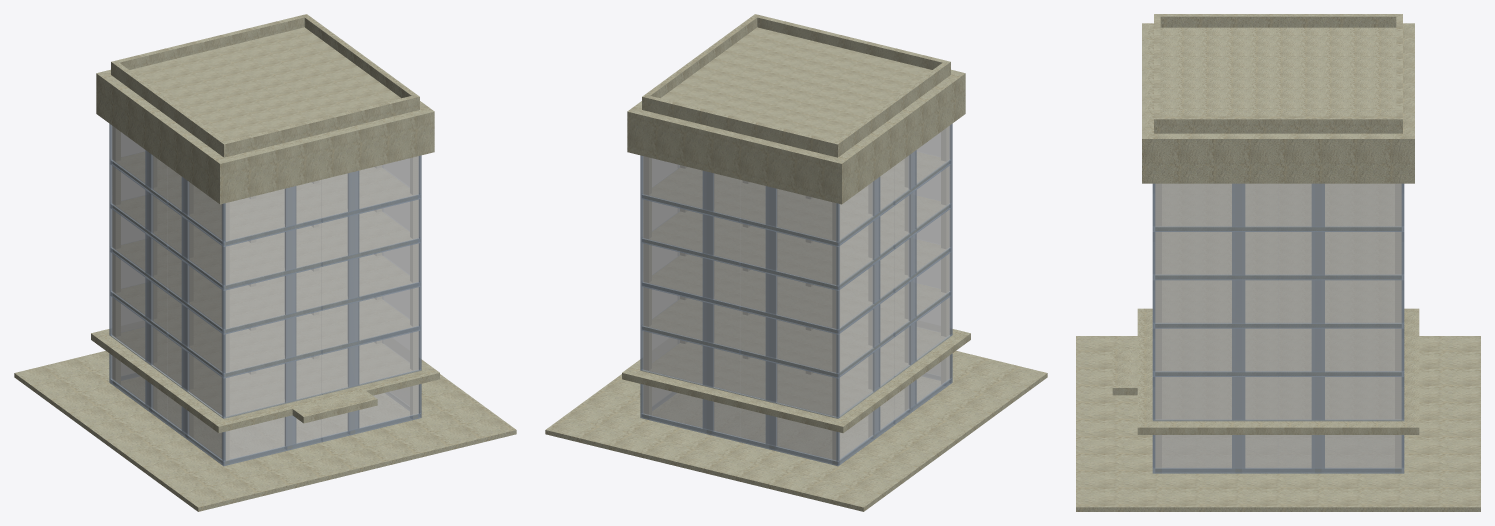
3 views of the same model, side by side, from view 1: azimuth 30°, elevation 25°; view 2: azimuth 150°, elevation 25°; view 3: azimuth 270°, elevation 25° (orthographic). The views are drawn at different scales.
Visible parts, largest first — view 1: Glass, Floors, Garage Floor, Facade Concrete Top, Facade, Facade Concrete Bottom, Columns; view 2: Glass, Floors, Garage Floor, Facade Concrete Top, Facade, Facade Concrete Bottom, Columns; view 3: Floors, Glass, Garage Floor, Facade Concrete Top, Facade, Facade Concrete Bottom, Columns.
Part boxes in pixels (bbox=[...]): Glass: bbox=[111, 125, 418, 460]; Floors: bbox=[113, 27, 417, 416]; Garage Floor: bbox=[14, 351, 516, 511]; Facade Concrete Top: bbox=[96, 14, 434, 204]; Facade: bbox=[109, 123, 421, 466]; Facade Concrete Bottom: bbox=[91, 329, 439, 432]; Columns: bbox=[113, 127, 417, 459]; Glass: bbox=[643, 125, 950, 460]; Floors: bbox=[644, 27, 948, 416]; Garage Floor: bbox=[545, 351, 1047, 511]; Facade Concrete Top: bbox=[627, 14, 965, 204]; Facade: bbox=[640, 123, 952, 466]; Facade Concrete Bottom: bbox=[622, 329, 970, 432]; Columns: bbox=[644, 127, 948, 459]; Floors: bbox=[1155, 27, 1401, 418]; Glass: bbox=[1155, 183, 1401, 468]; Garage Floor: bbox=[1076, 336, 1480, 511]; Facade Concrete Top: bbox=[1142, 14, 1414, 183]; Facade: bbox=[1152, 183, 1404, 473]; Facade Concrete Bottom: bbox=[1112, 308, 1419, 434]; Columns: bbox=[1155, 184, 1401, 467].
Size of the model in its own units: 30.4 by 29.8 by 30.4.
3 materials, 1 textured.
